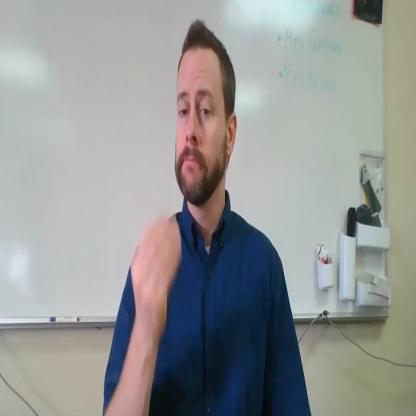Food: (110, 18, 276, 340)
